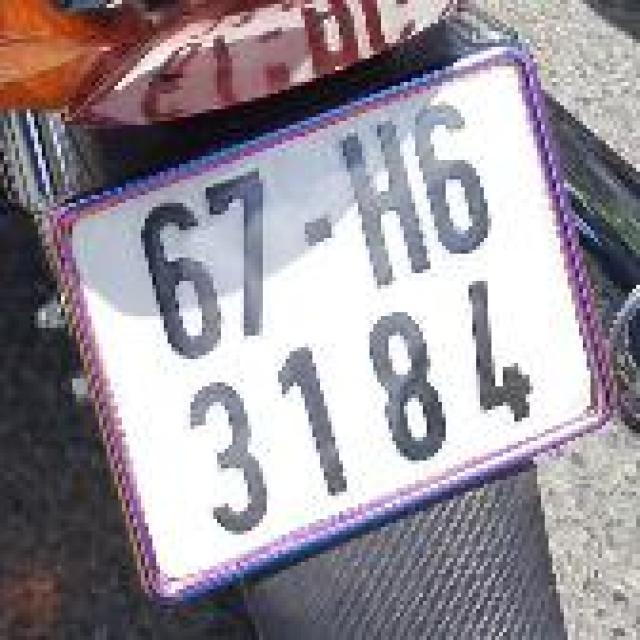1: (259, 328, 367, 513)
3: (179, 365, 283, 550)
4: (444, 250, 558, 445)
6: (402, 85, 515, 277), (125, 193, 232, 371)
7: (195, 160, 302, 351)
8: (342, 293, 461, 472)
H: (324, 105, 442, 300)
